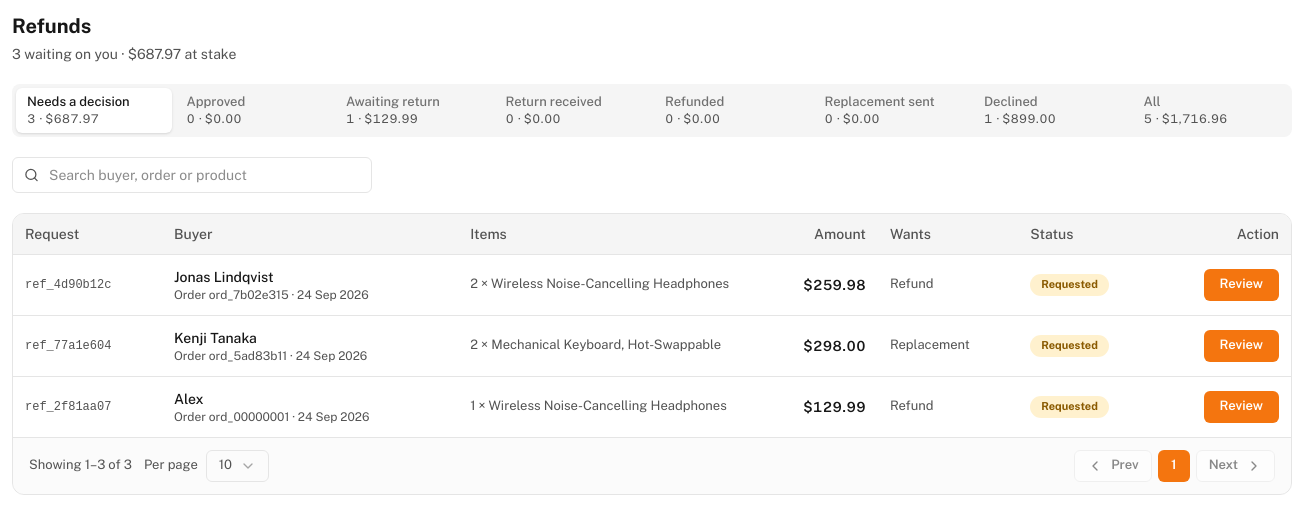
it: SellerRefunds › searches across buyer, order and product
This screenshot has width=1292, height=512.
Check: the text "ref_4d90b12c" is shown, box 13,254 -> 162,315
In the search field named "Search refund requests": (192, 175) 12,157 -> 372,193, type "tanaka"
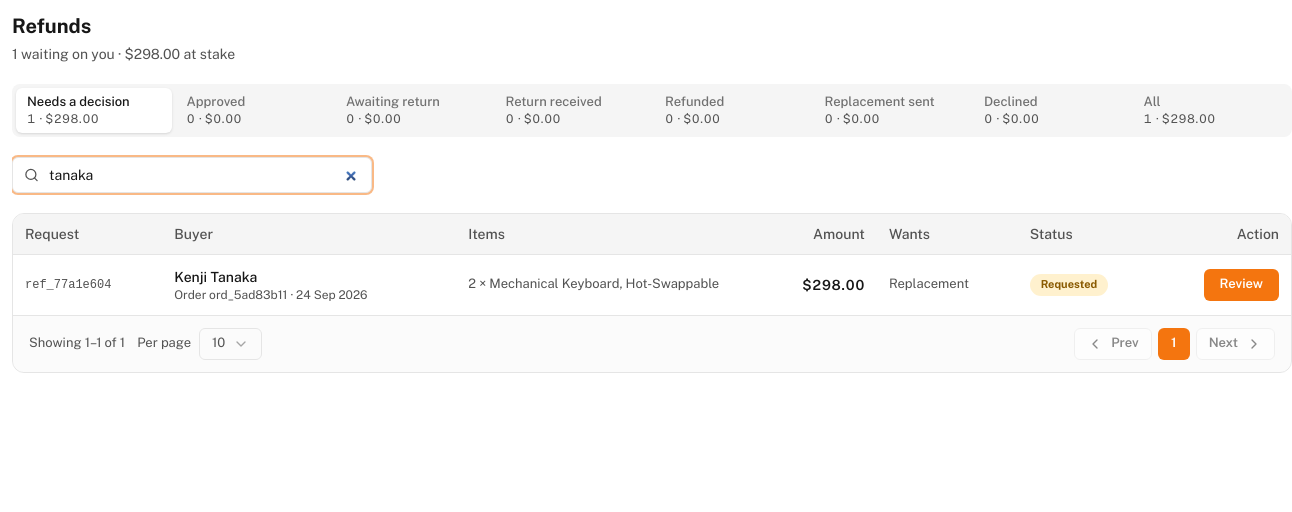
Check: the text "ref_77a1e604" is shown, box 13,254 -> 162,314
Check: the text "ref_4d90b12c" is gone
